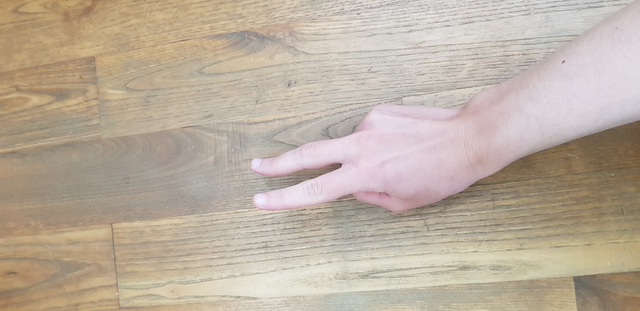Scissors: (230, 87, 497, 235)
